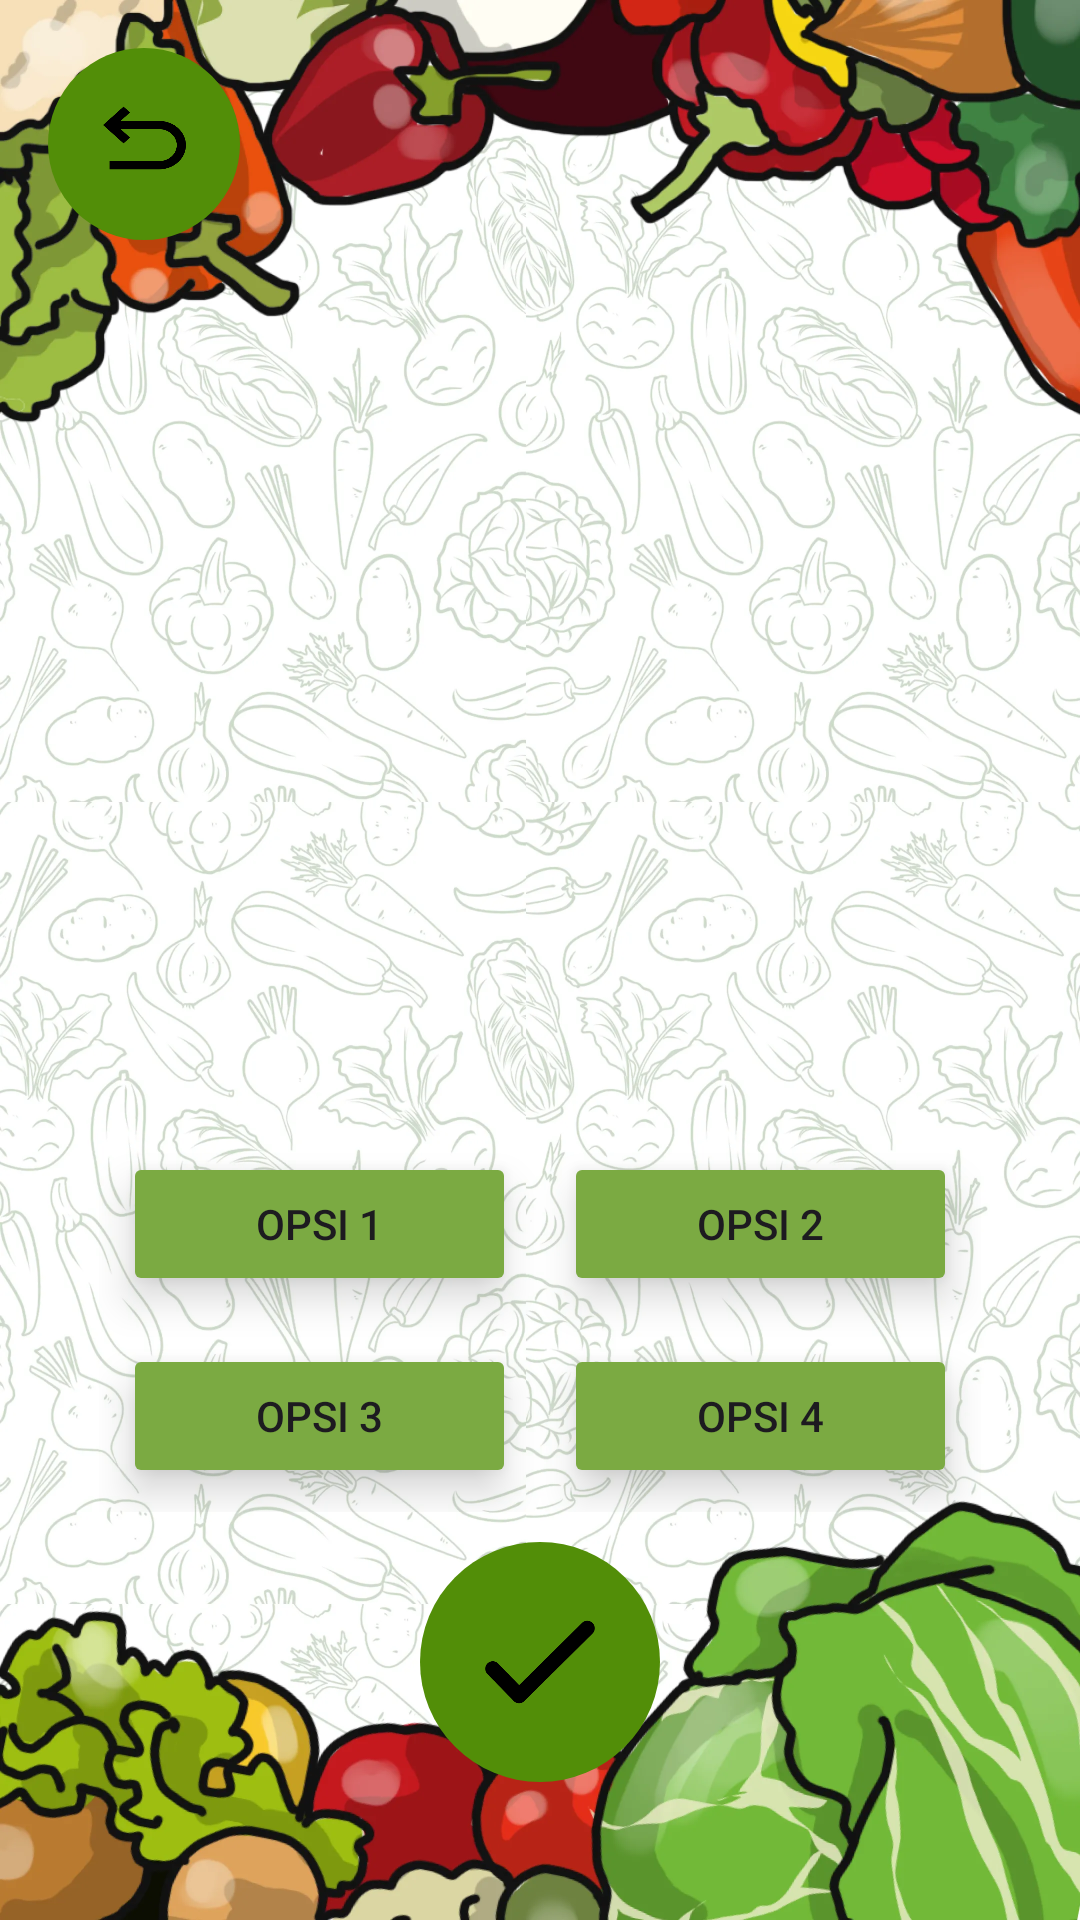

Named icons in this screenshot (1080 x 1920) and their centers, (x,y):
check: (540,1662)
turn left: (144,138)
